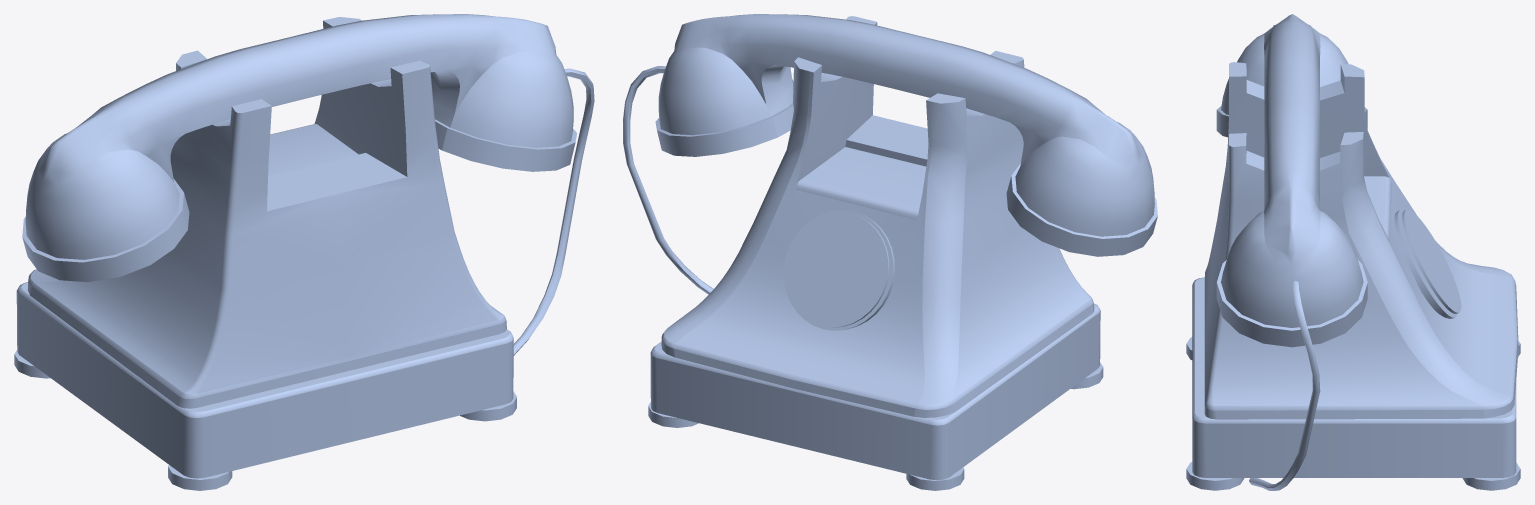
File: office_phone_1940_01.fbx
3 renders of one model, left to right at view 1: azimuth 30°, elevation 25°; view 2: azimuth 150°, elevation 25°; view 3: azimuth 270°, elevation 25°, orthographic. The views are drawn at different scales.
Visible parts, largest first — view 1: office_phone_1940_01; view 2: office_phone_1940_01; view 3: office_phone_1940_01.
Boxes of the visible parts, bbox=[...] form: office_phone_1940_01: bbox=[14, 14, 594, 490]; office_phone_1940_01: bbox=[623, 14, 1157, 490]; office_phone_1940_01: bbox=[1186, 14, 1520, 490].
Size of the model in its own units: 1624 by 1013 by 917.
